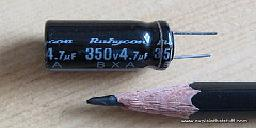Electrolytic-Capacitor: (36, 18, 221, 75)
